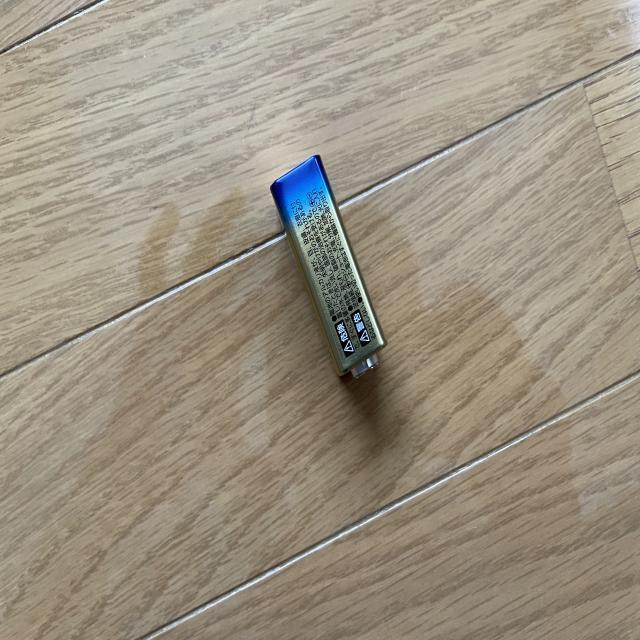9V: (268, 152, 390, 381)
